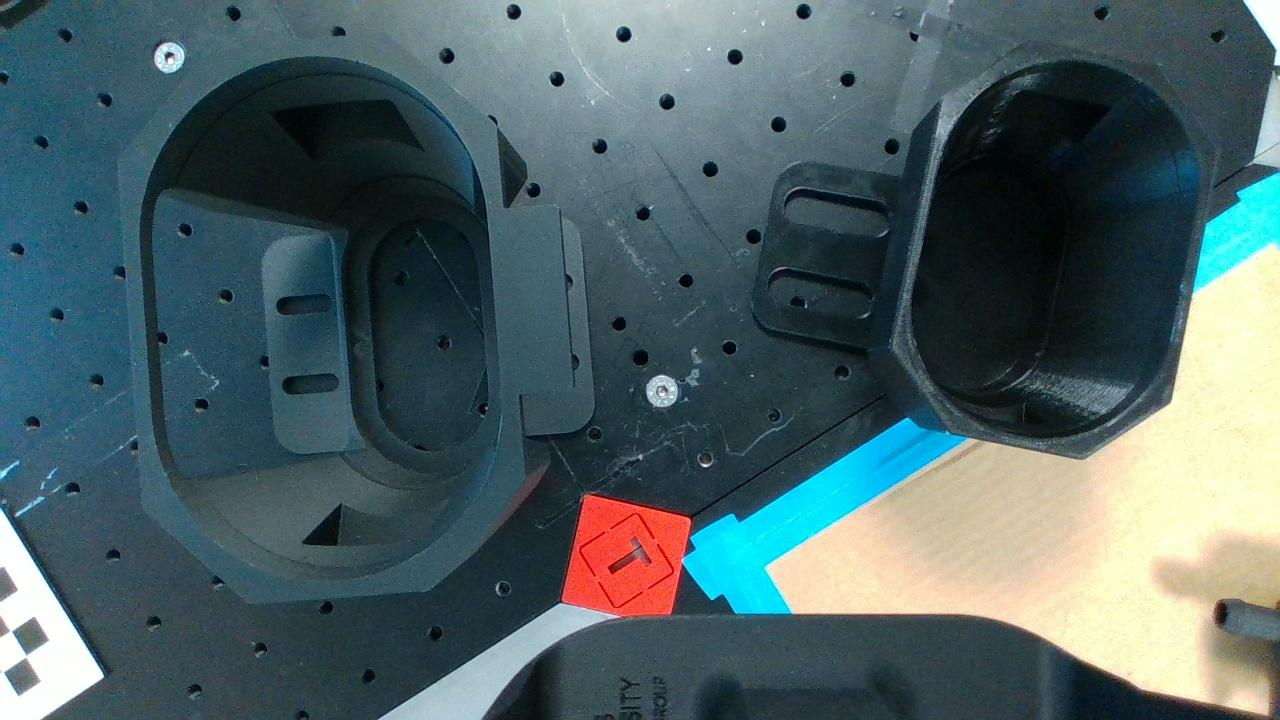big_interface: (118, 35, 526, 605)
small_interface: (890, 40, 1220, 462)
